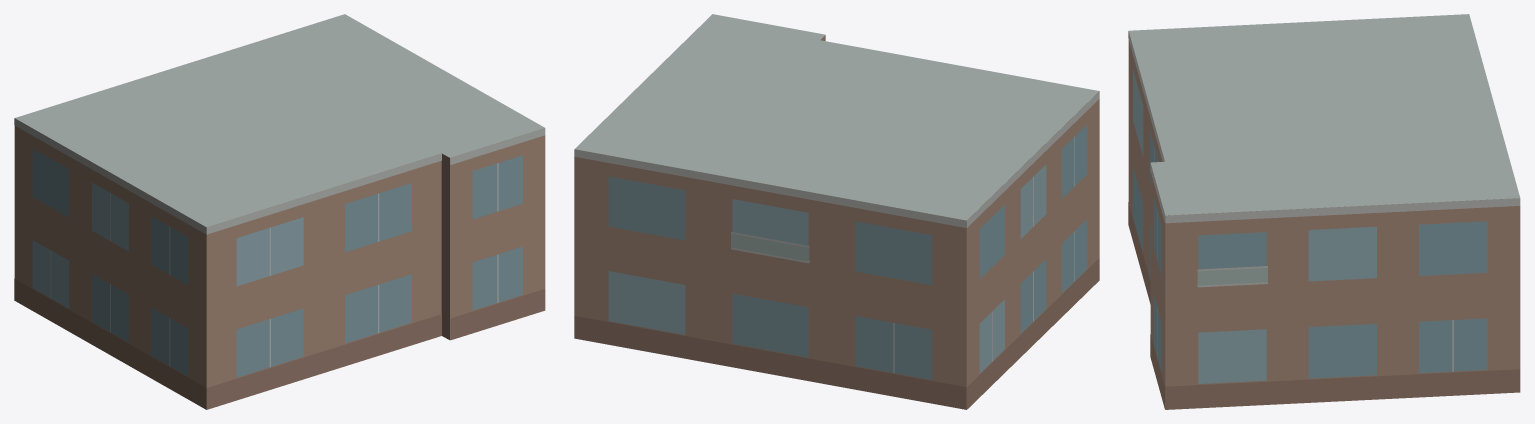
The model's file is survey-upis-33005827.glb.
The picture shows the model from 3 angles, left to right: view 1: azimuth 30°, elevation 25°; view 2: azimuth 150°, elevation 25°; view 3: azimuth 270°, elevation 25°; orthographic projection. The views are drawn at different scales.
Parts seen in each view (by area): view 1: survey-upis-33005827.tmp; view 2: survey-upis-33005827.tmp; view 3: survey-upis-33005827.tmp.
Boxes of the visible parts, left/top/right/bottom form: survey-upis-33005827.tmp: left=14, top=14, right=545, bottom=409; survey-upis-33005827.tmp: left=574, top=14, right=1099, bottom=409; survey-upis-33005827.tmp: left=1128, top=14, right=1520, bottom=409.
Size of the model in its own units: 13.58 by 6.1 by 11.16.
